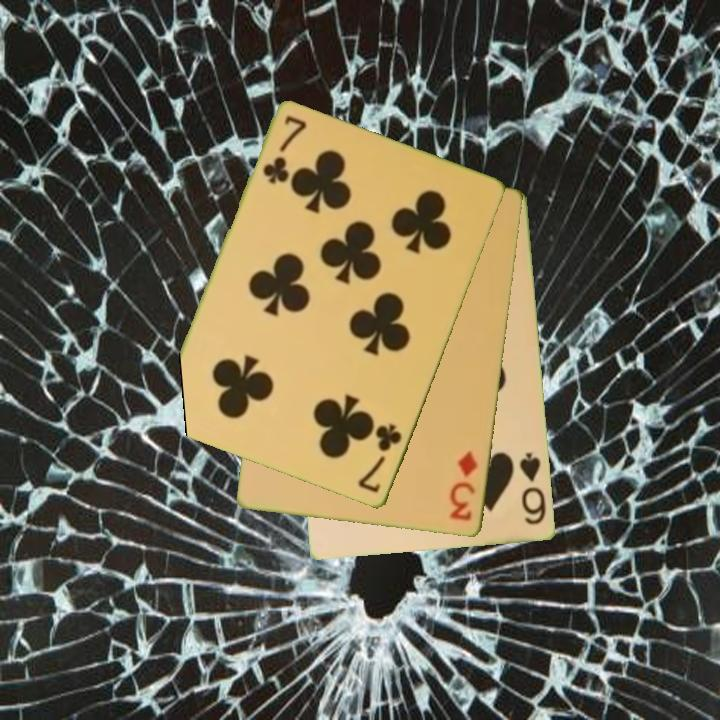3d: (446, 448, 481, 524)
6s: (516, 449, 550, 528)
7c: (354, 420, 406, 497), (259, 113, 308, 188)
